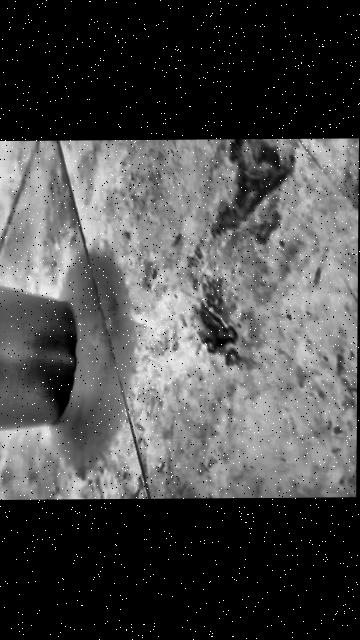pot: (0, 266, 76, 442)
